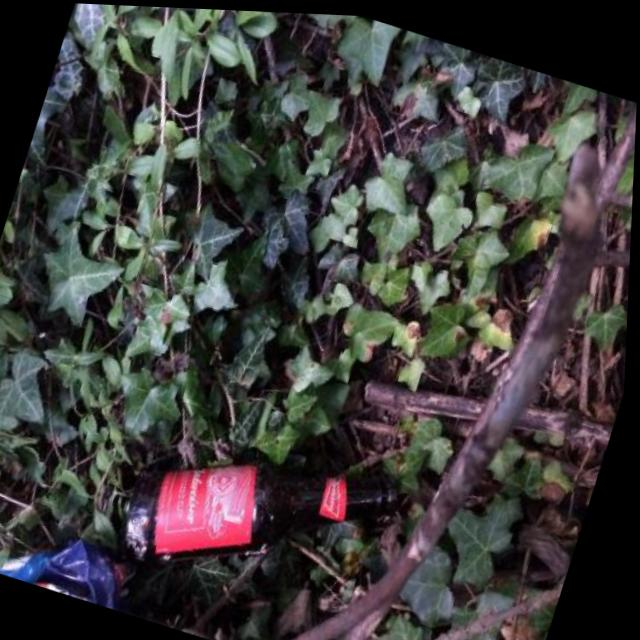glass: (107, 407, 409, 636)
